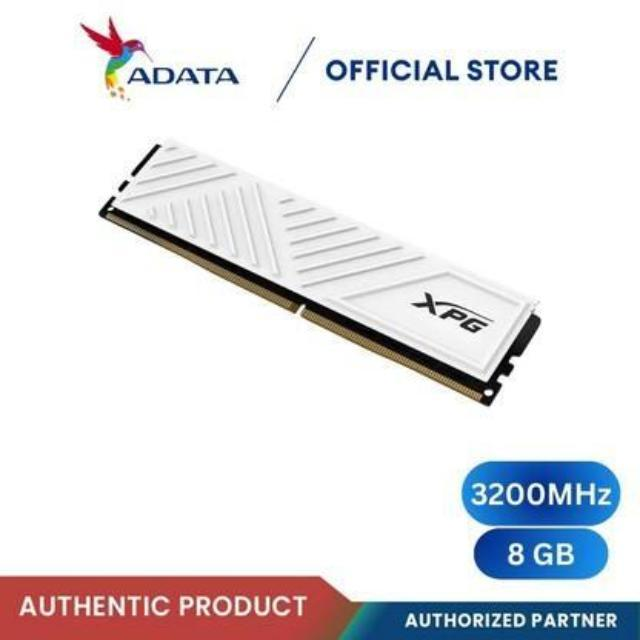RAM: (105, 138, 542, 410)
